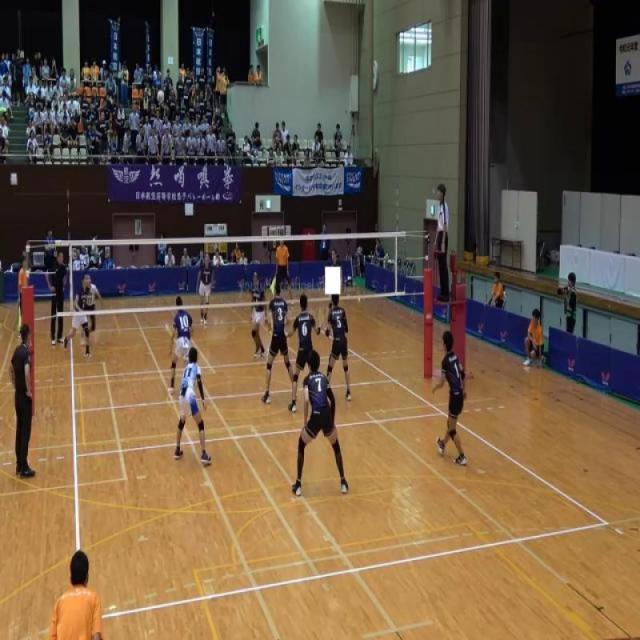volleyball: (156, 90, 164, 103)
